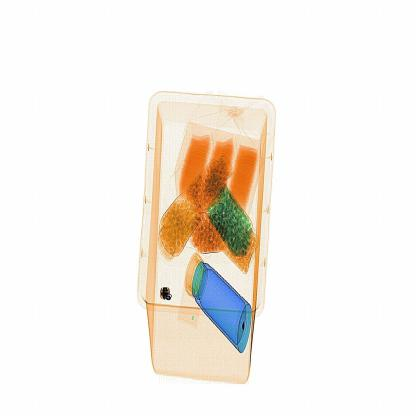scissors: (153, 282, 172, 310)
